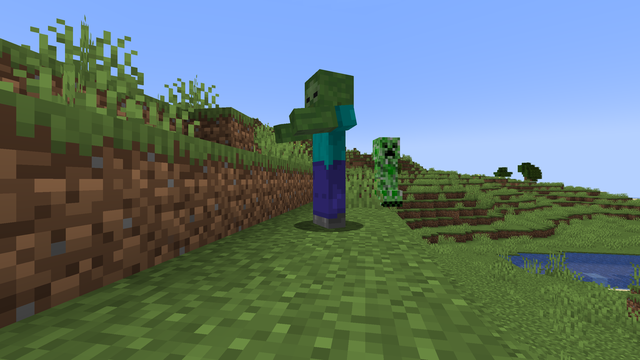creepers: (373, 133, 400, 206)
zombies: (301, 72, 350, 229)
